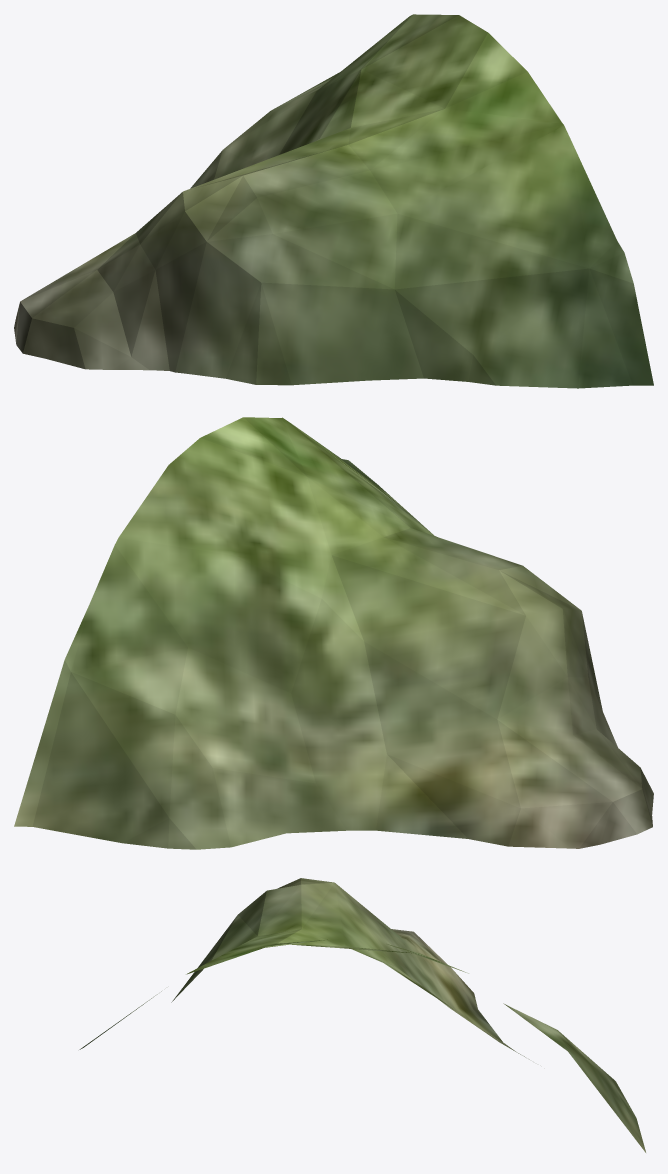
The picture shows the model from 3 angles, top to bottom: view 1: azimuth 30°, elevation 25°; view 2: azimuth 150°, elevation 25°; view 3: azimuth 270°, elevation 25°; orthographic projection. The views are drawn at different scales.
Bounding box in the file's own units: 1.01 × 0.5077 × 1.34.
1 material, 1 textured.
